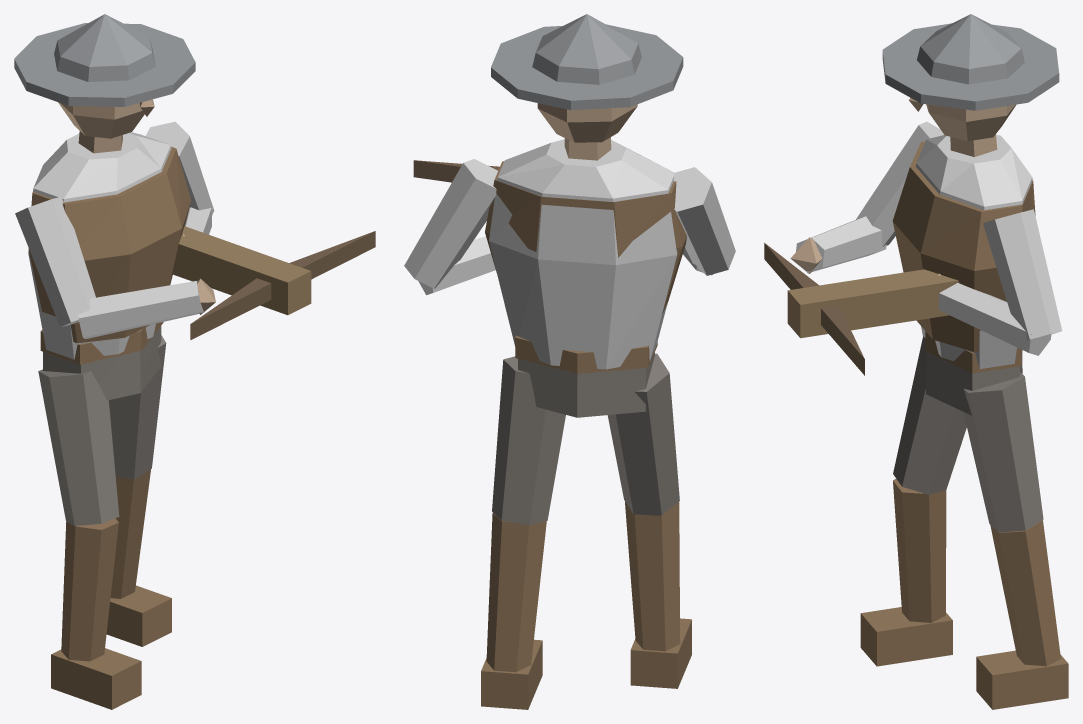
File: crossbowman.glb
3 views of the same model, side by side, from view 1: azimuth 30°, elevation 25°; view 2: azimuth 150°, elevation 25°; view 3: azimuth 270°, elevation 25° (orthographic). The views are drawn at different scales.
Parts seen in each view (by area): view 1: LOD0; view 2: LOD0; view 3: LOD0.
Boxes of the visible parts, x1,y1,x2,y2 form: LOD0: (14,14,375,709); LOD0: (404,14,735,709); LOD0: (764,14,1068,709).
Size of what is drawn, in the model's own units: 0.5116 by 0.986 by 0.4134.
